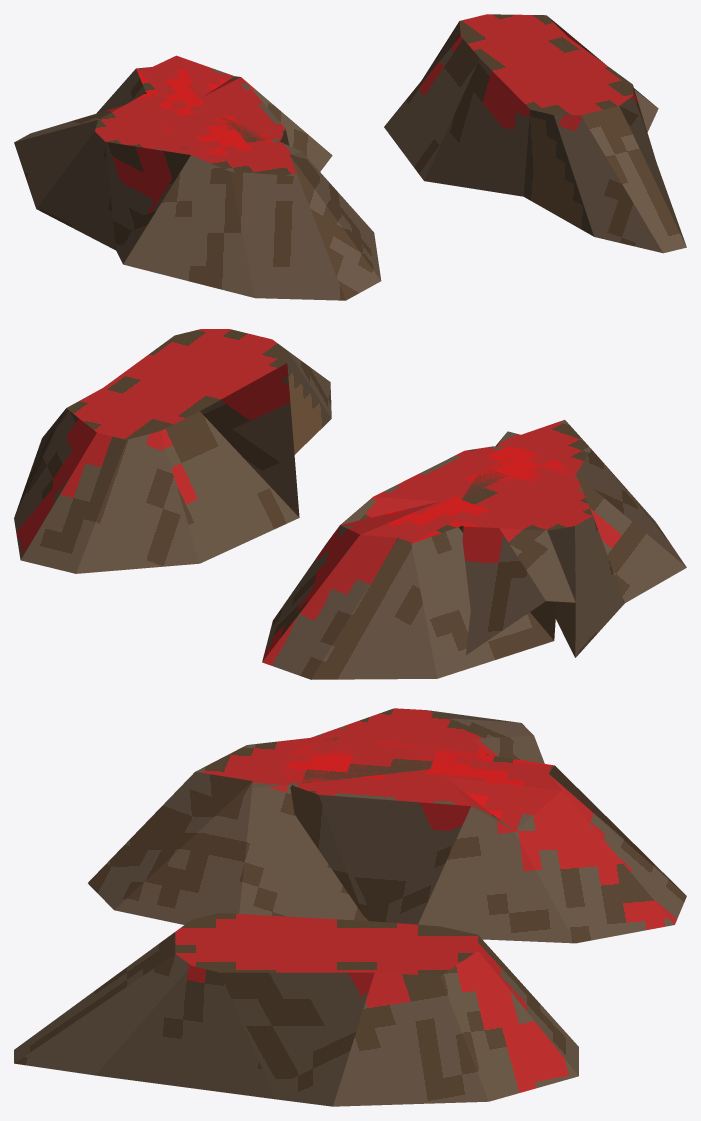
File: bomber.fbx
3 views of the same model, one above another, from view 1: azimuth 30°, elevation 25°; view 2: azimuth 150°, elevation 25°; view 3: azimuth 270°, elevation 25° (orthographic). The views are drawn at different scales.
Visible parts, largest first — view 1: island2, island1; view 2: island2, island1; view 3: island2, island1.
Boxes of the visible parts, x1,y1,x2,y2 form: island2: (14, 55, 381, 300); island1: (384, 14, 686, 253); island2: (262, 419, 686, 679); island1: (14, 329, 331, 573); island2: (88, 708, 686, 943); island1: (14, 913, 578, 1106).
Size of the model in its own units: 241 by 37.5 by 208.
Materials: 2 (2 with a texture image).
